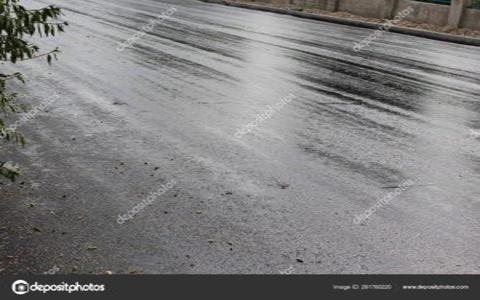Proper road: (66, 4, 337, 182), (150, 74, 441, 217)
